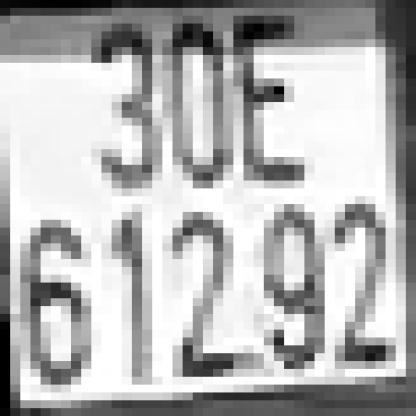0: (162, 23, 224, 188)
1: (102, 212, 172, 377)
2: (172, 212, 233, 369), (324, 204, 386, 353)
3: (92, 32, 162, 188)
6: (20, 220, 92, 377)
9: (244, 204, 324, 361)
E: (233, 16, 294, 180)
